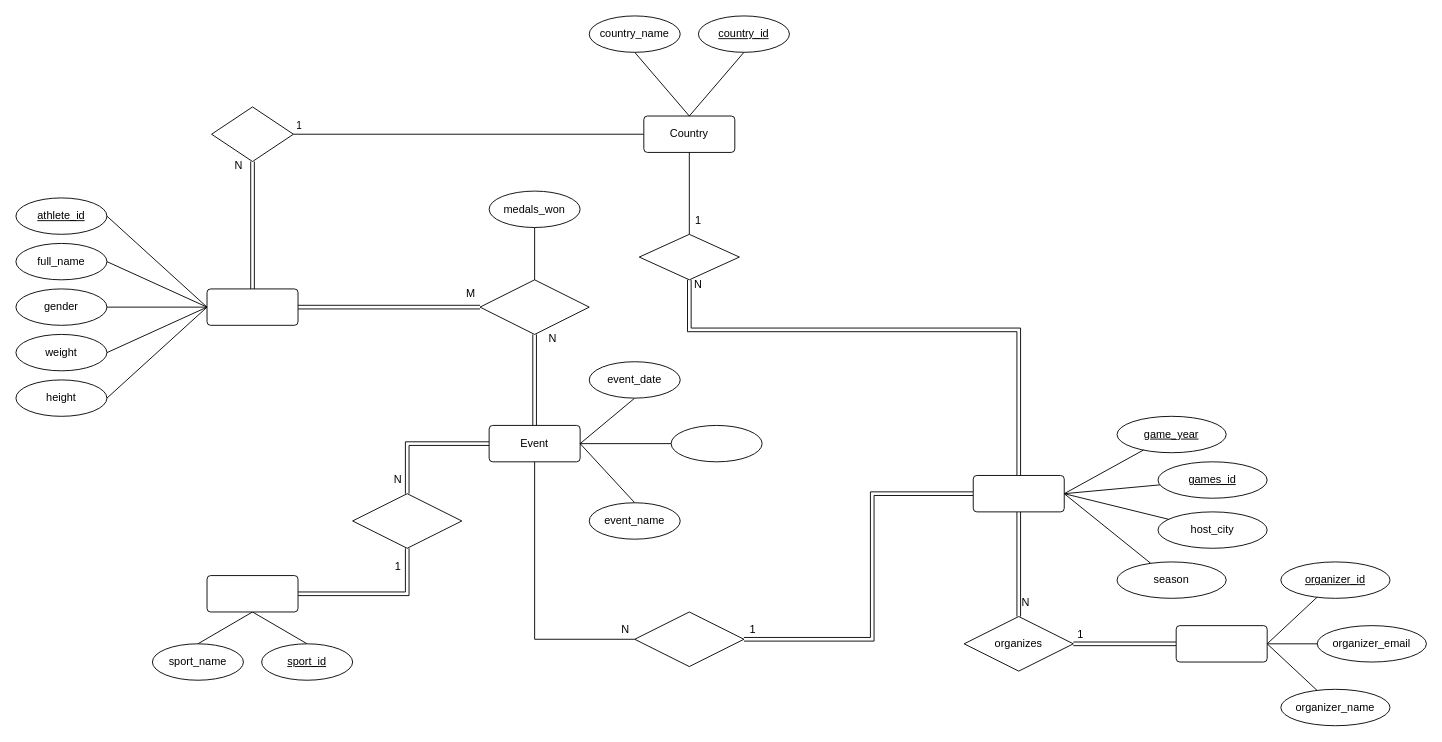
Some shapes in this 1442 by 742 pixel diagram are drawn without their labels. Here are the shapes that lost their labels. From the top down, the box of each, then its label:
(211, 106, 293, 162): represents
(638, 233, 739, 280): hosts
(206, 288, 298, 325): Athlete
(479, 279, 589, 334): participates_in
(670, 425, 762, 462): event_id
(972, 475, 1064, 512): games
(352, 493, 462, 548): contains
(206, 575, 298, 612): Sport
(634, 611, 744, 667): features
(1175, 625, 1267, 662): organizer
